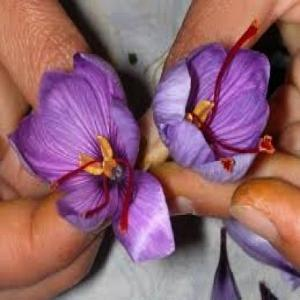Saffron: (11, 52, 178, 261), (152, 43, 272, 185)
